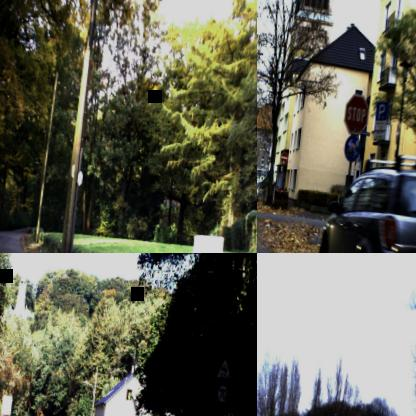NO ENTRY: (280, 150, 288, 164)
STOP: (342, 93, 369, 136)
go left or straight: (342, 133, 361, 162)
slippery road: (212, 350, 236, 382)
speed limit 70: (214, 380, 230, 406)
